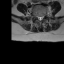CCS_normal: (39, 13, 41, 22)
LFS_normal: (43, 12, 45, 18)
LLS_normal: (41, 13, 43, 21)
RFS_stenosis: (35, 12, 37, 18)
RLS_normal: (37, 13, 39, 21)
